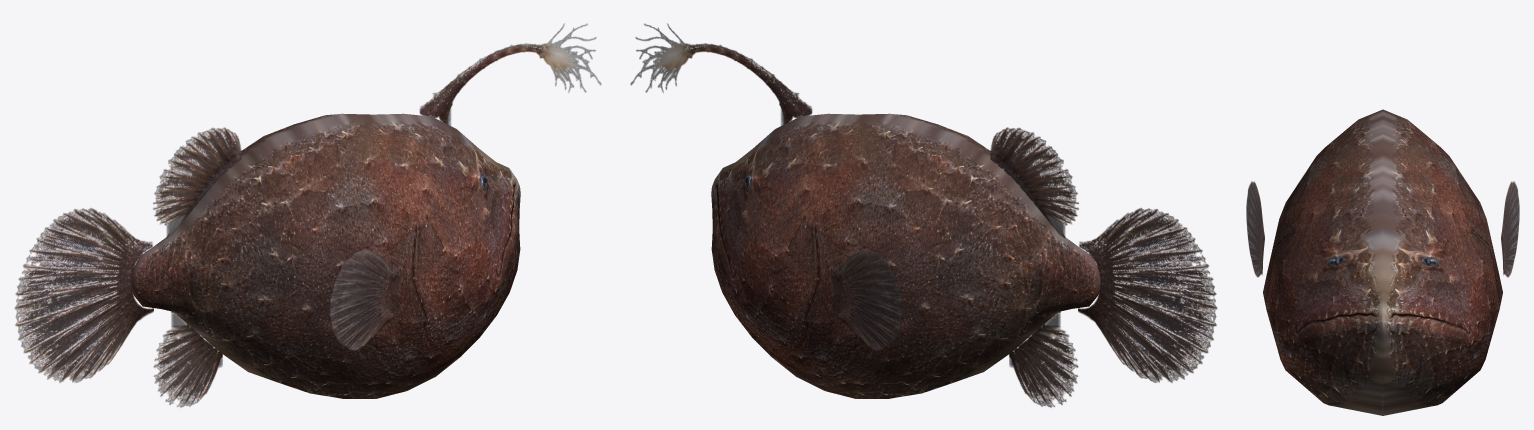
The model's file is chouchinankou_lo.glb.
The picture shows the model from 3 angles, left to right: view 1: azimuth 30°, elevation 25°; view 2: azimuth 150°, elevation 25°; view 3: azimuth 270°, elevation 25°; orthographic projection. The views are drawn at different scales.
Visible parts, largest first — view 1: chouchinankou; view 2: chouchinankou; view 3: chouchinankou.
Part boxes in pixels (left/top/right/bottom): chouchinankou: left=14, top=23, right=601, bottom=407; chouchinankou: left=630, top=23, right=1217, bottom=407; chouchinankou: left=1246, top=109, right=1519, bottom=415.
Bounding box in the file's own units: 0.401 × 0.2022 × 0.1726.
1 material, 1 textured.
